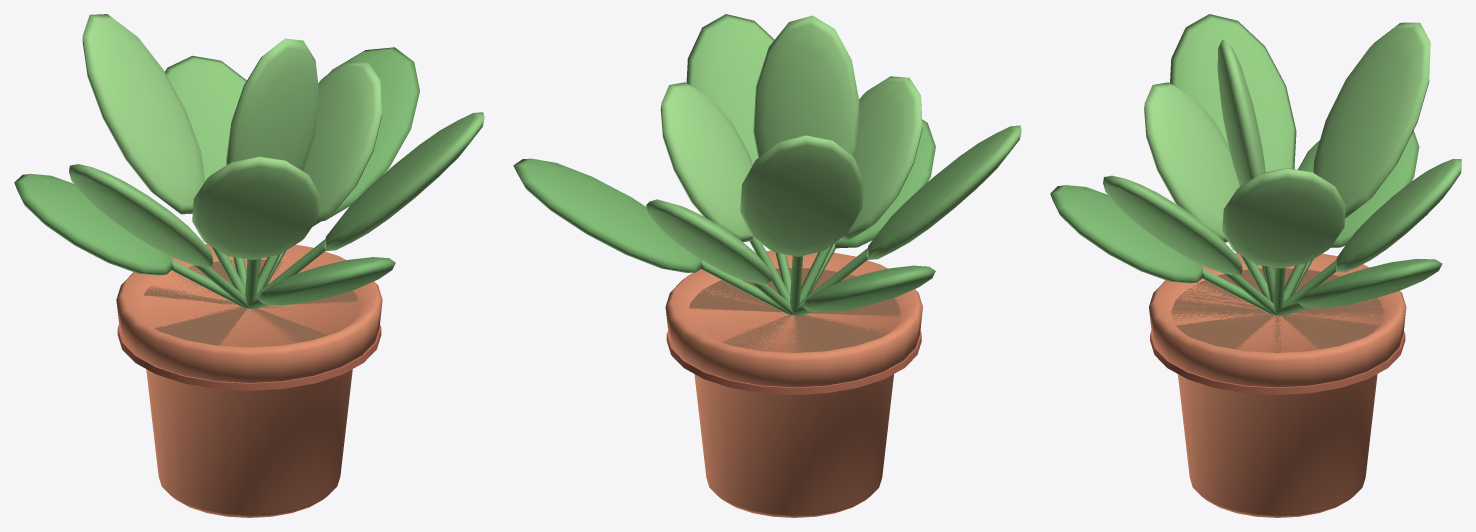
Rendered from plant_big.glb.
3 renders of one model, left to right at view 1: azimuth 30°, elevation 25°; view 2: azimuth 150°, elevation 25°; view 3: azimuth 270°, elevation 25°, orthographic. The views are drawn at different scales.
Visible parts, largest first — view 1: PlantBig; view 2: PlantBig; view 3: PlantBig.
Boxes of the visible parts, left/top/right/bottom form: PlantBig: left=14, top=14, right=484, bottom=517; PlantBig: left=513, top=14, right=1021, bottom=517; PlantBig: left=1050, top=14, right=1461, bottom=517.
Size of the model in its own units: 0.7521 by 0.7845 by 0.6553.
